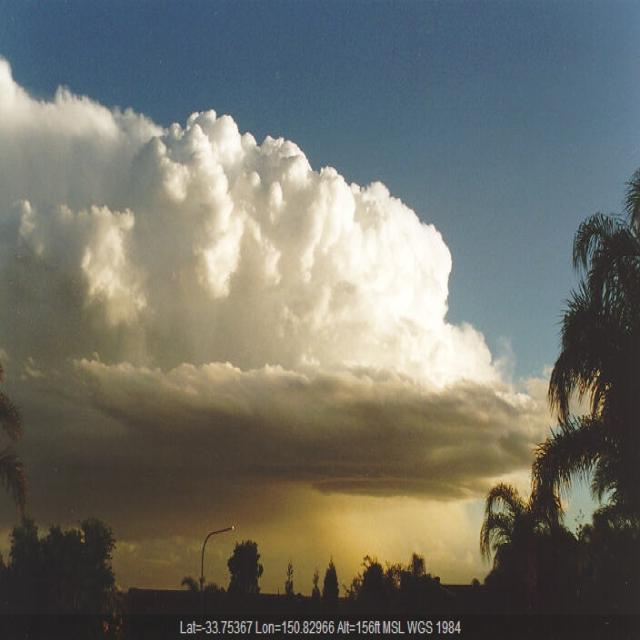cumulonimbus: (0, 30, 536, 481)
